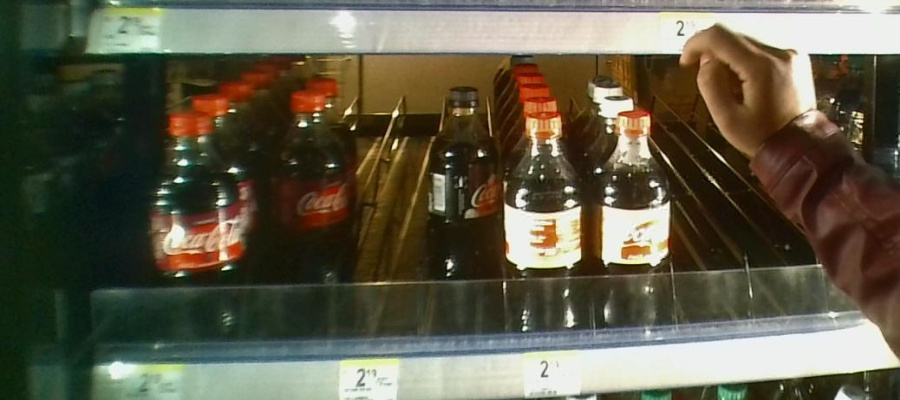bottle: (590, 106, 682, 327), (151, 107, 236, 344), (504, 103, 583, 351), (269, 95, 346, 341), (425, 90, 495, 330)
